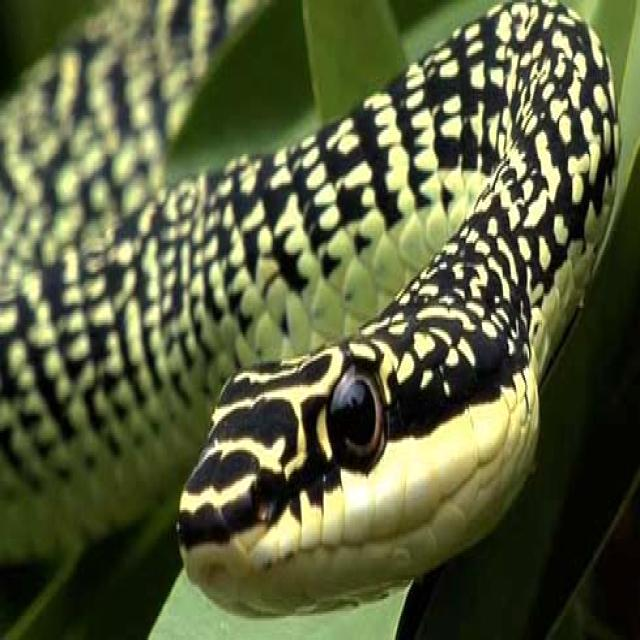Chrysopelea ornata: (0, 0, 619, 613)
